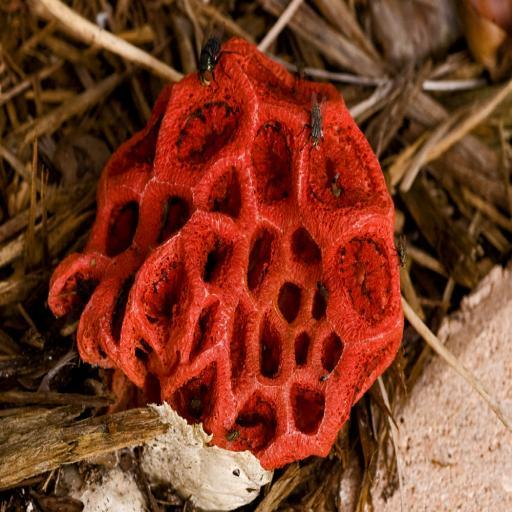mushroom: (55, 38, 411, 467)
